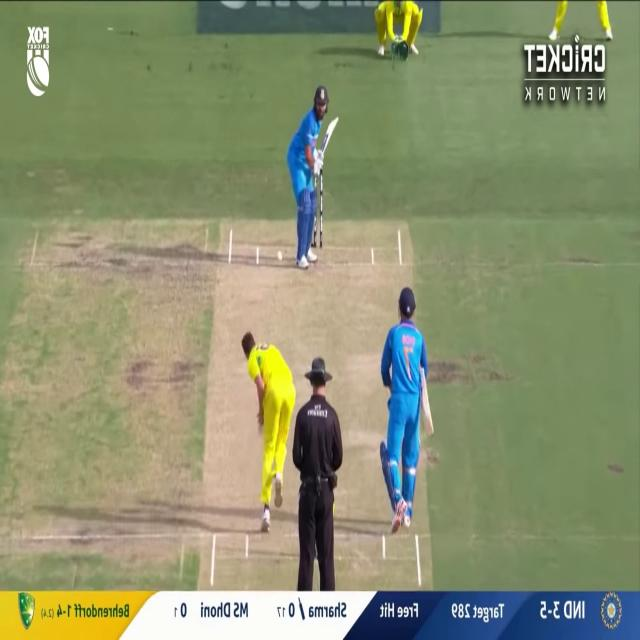ball: (277, 251, 282, 260)
stump: (312, 164, 323, 242), (314, 190, 318, 241)
